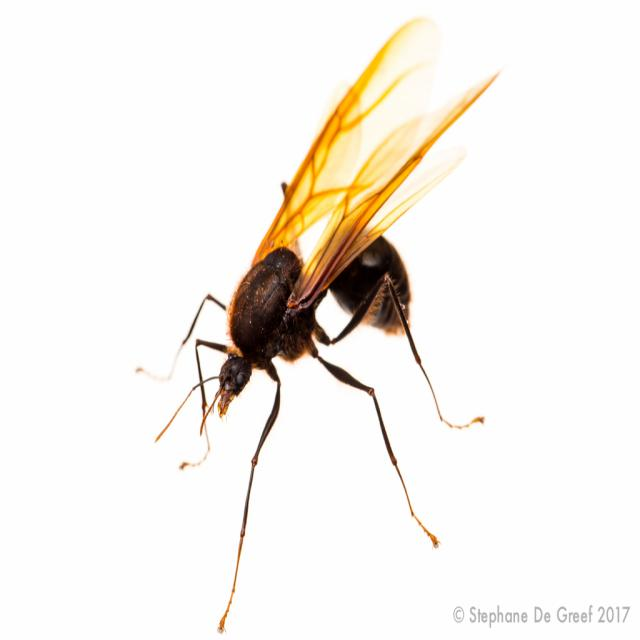Alive-Male-Alate: (135, 13, 522, 635)
